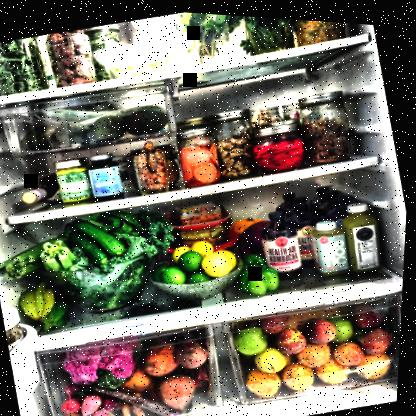apple: (236, 319, 276, 355)
chocolate: (69, 229, 116, 268)
cucumber: (74, 217, 127, 257), (69, 228, 118, 267)
ginger: (136, 144, 174, 192)
green_bell_pepper: (241, 258, 286, 294), (243, 246, 270, 269)
lemon: (202, 246, 237, 277), (192, 234, 219, 256)
orange: (247, 360, 288, 397), (357, 343, 398, 378), (284, 355, 324, 390), (317, 351, 356, 382), (300, 336, 338, 366), (336, 333, 370, 363)
parsley: (244, 13, 310, 28)
peach: (360, 320, 399, 354), (306, 310, 342, 344), (277, 320, 313, 354)
pickles: (178, 137, 224, 185)
radish: (79, 390, 113, 415)
tangerine: (161, 261, 191, 286), (179, 245, 206, 269), (188, 265, 214, 283)
